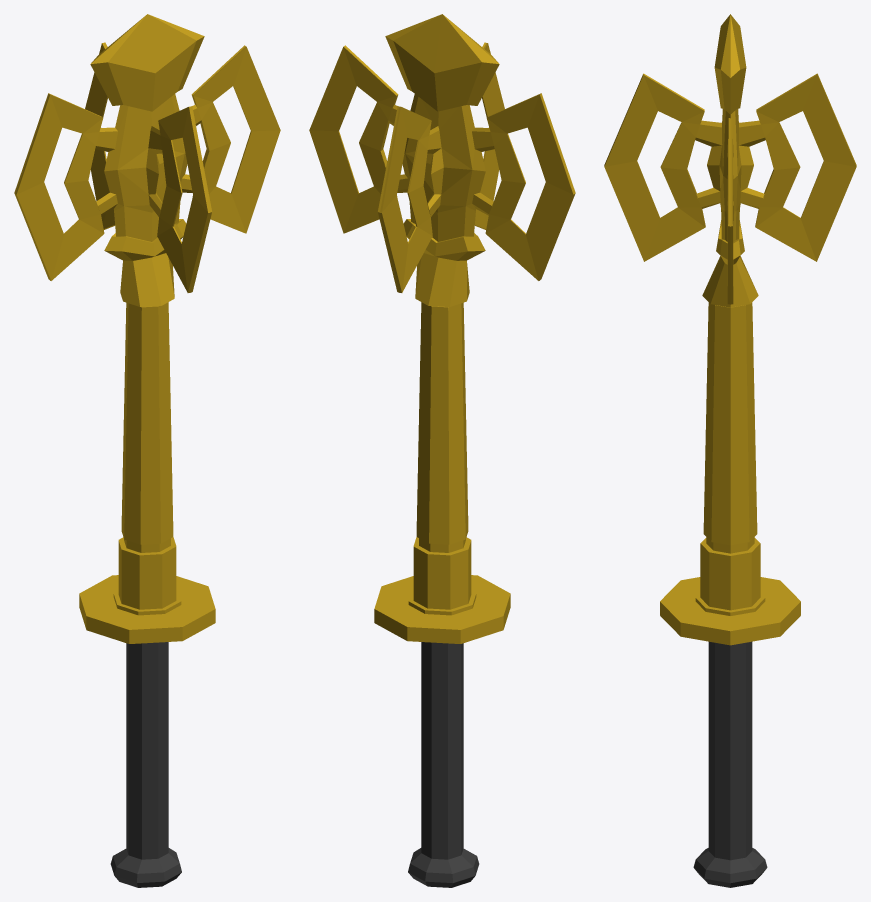
The model's file is mace.glb.
The picture shows the model from 3 angles, left to right: view 1: azimuth 30°, elevation 25°; view 2: azimuth 150°, elevation 25°; view 3: azimuth 270°, elevation 25°; orthographic projection.
Parts seen in each view (by area): view 1: Mace; view 2: Mace; view 3: Mace.
Boxes of the visible parts, x1,y1,x2,y2 form: Mace: [14, 14, 280, 887]; Mace: [309, 14, 575, 887]; Mace: [604, 14, 856, 887].
Size of the model in its own units: 1.37 by 4.26 by 1.13.
